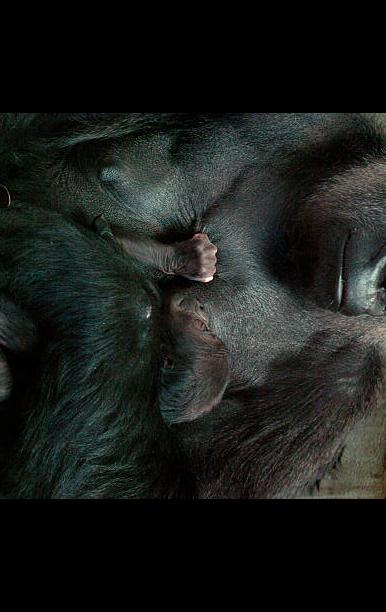gorille_Autres: (0, 126, 386, 499)
